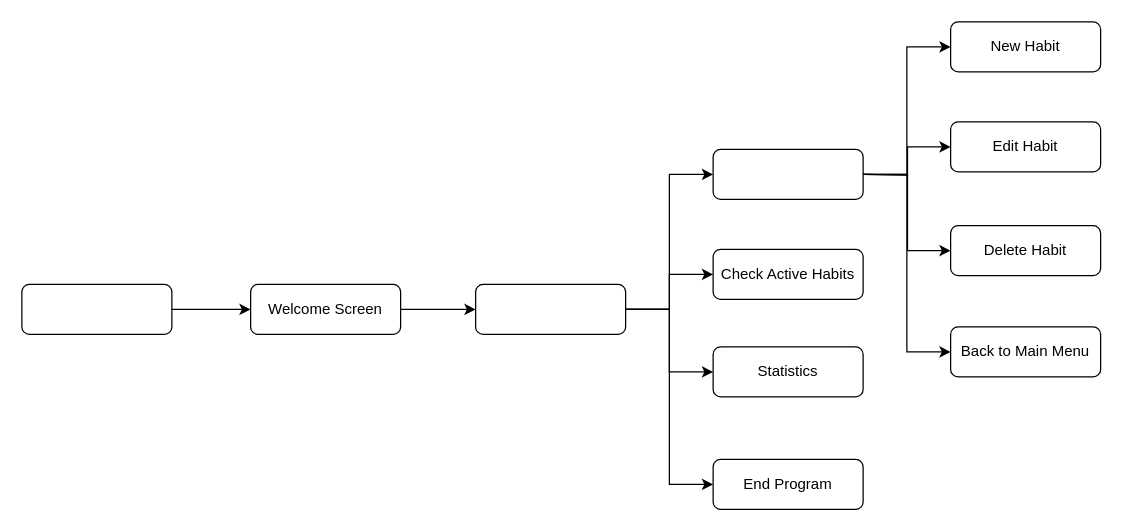
Image size: 1123x531. Some labels were removed from this diagram. The shapes that lost their labels are listed below. From the top down, each one's centre as x and y in pixels, then its label:
At pixel 787 173: "Habits".
At pixel 96 308: "Start".
At pixel 550 308: "Main Menu".
